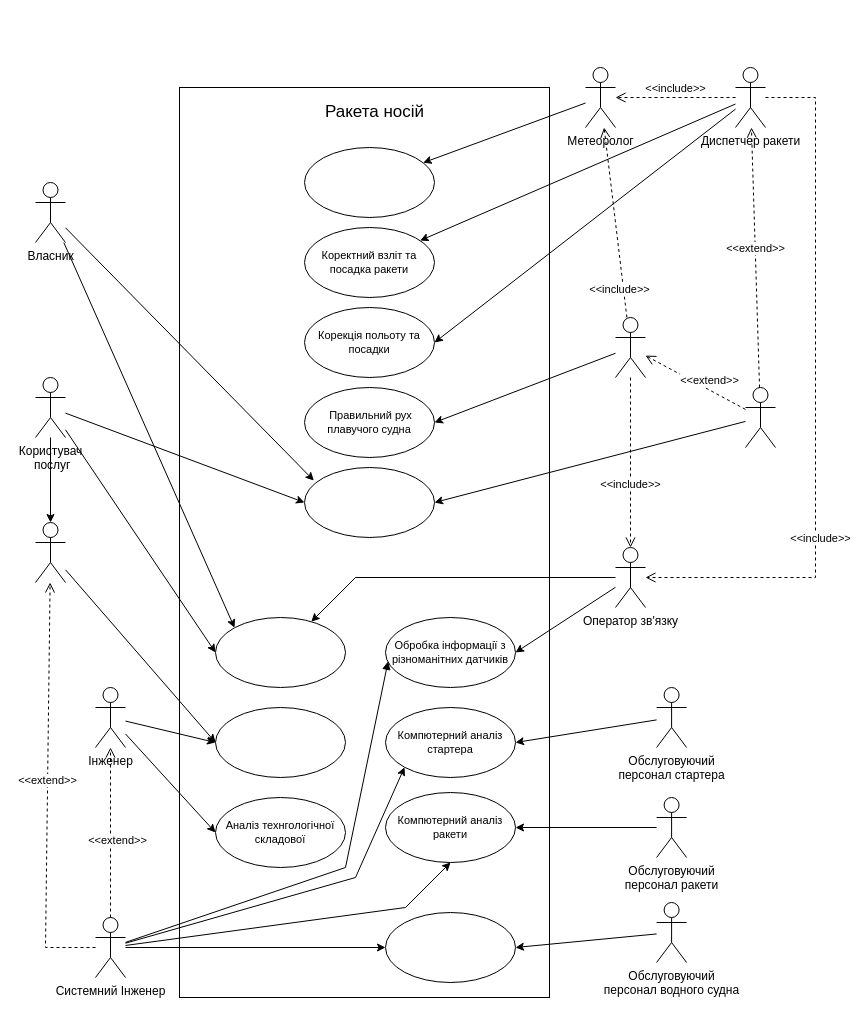
Image size: 868x1015. Some labels were removed from this diagram. Here are the shapes that lost their labels. From the top down, the box of each, then its label:
(304, 146, 434, 218): Перевірка можливості взльоту ракети за певних погодніх умов
(614, 316, 646, 378): Диспетчер плавучого судна
(744, 386, 776, 448): Керівник польоту
(304, 466, 434, 538): Виведення об'єкта на орбіту
(34, 522, 66, 582): Технічний консультант
(214, 616, 346, 688): Передача відео з ракети
(214, 706, 346, 778): Опис поточних технічних можливостей
(384, 912, 516, 982): Компютерний аналіз плавучого судна
